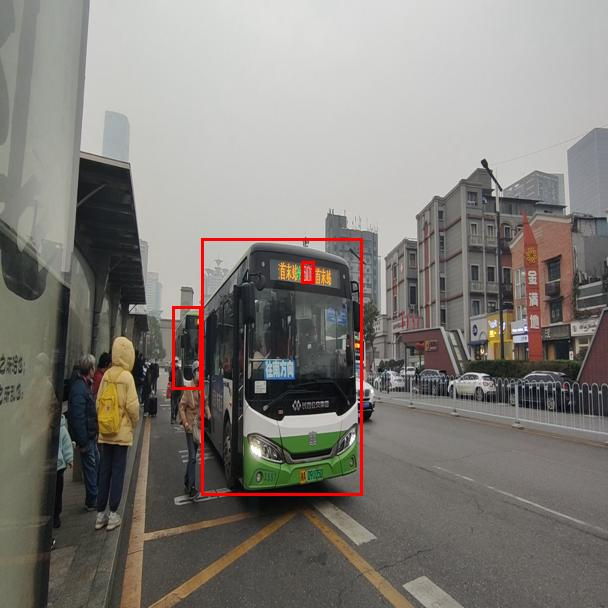bus: (201, 238, 362, 495), (172, 306, 201, 389)
screen: (301, 261, 314, 283)
